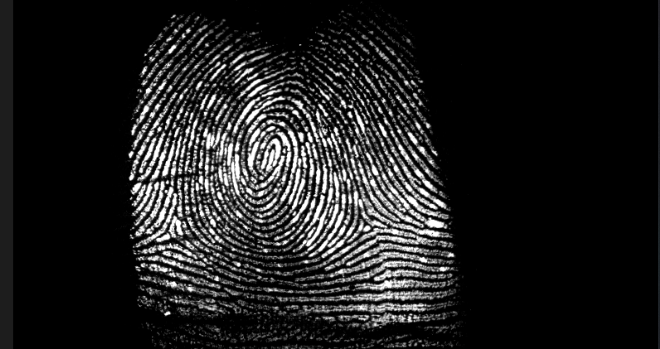deltas: (148, 204, 201, 254), (347, 193, 383, 242)
nucleo: (251, 135, 285, 185)
